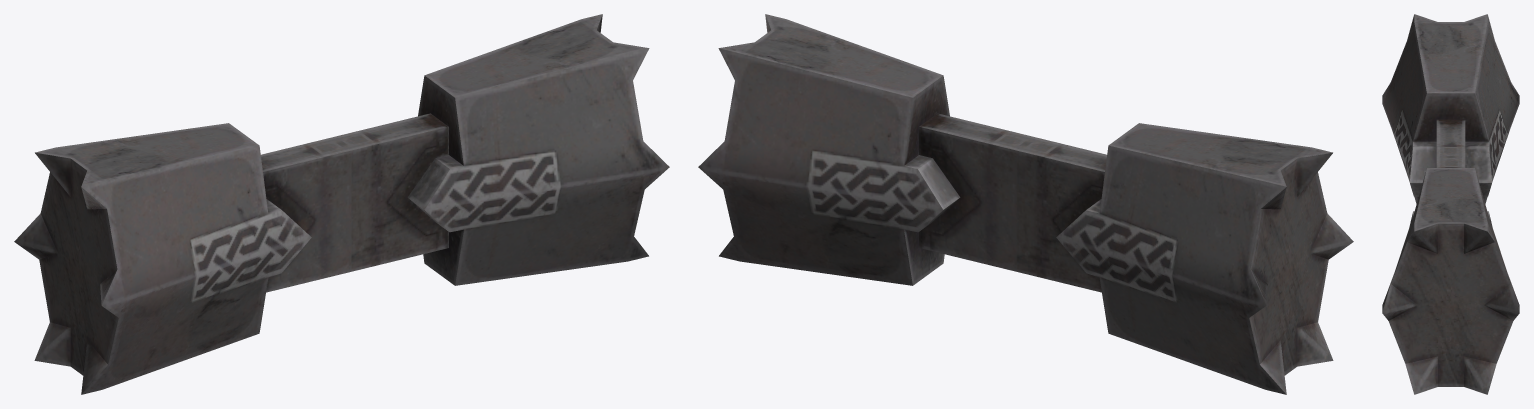
Rendered from sm_dwarf_iron_hammer_blade_a.fbx.
The picture shows the model from 3 angles, left to right: view 1: azimuth 30°, elevation 25°; view 2: azimuth 150°, elevation 25°; view 3: azimuth 270°, elevation 25°; orthographic projection. The views are drawn at different scales.
Visible parts, largest first — view 1: sm_dwarf_iron_hammer_blade_a; view 2: sm_dwarf_iron_hammer_blade_a; view 3: sm_dwarf_iron_hammer_blade_a.
Part boxes in pixels (left/top/right/bottom): sm_dwarf_iron_hammer_blade_a: left=14, top=14, right=669, bottom=394; sm_dwarf_iron_hammer_blade_a: left=698, top=14, right=1353, bottom=394; sm_dwarf_iron_hammer_blade_a: left=1382, top=14, right=1519, bottom=394.
Bounding box in the file's own units: 0.5366 × 0.143 × 0.1878.
1 material, 1 textured.
